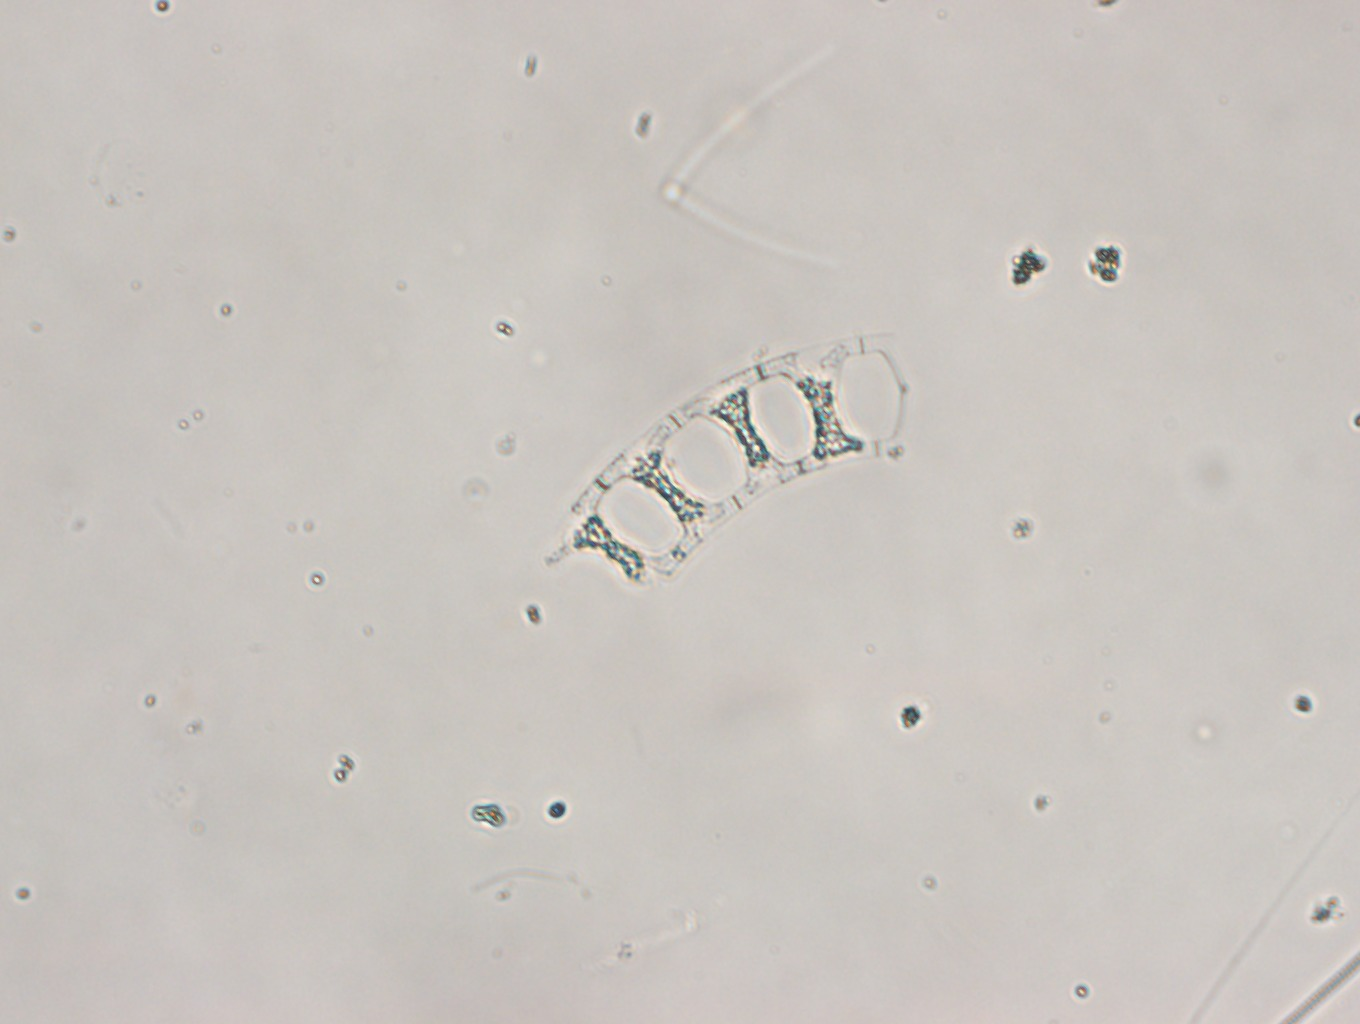eucampia: (553, 329, 907, 583)
